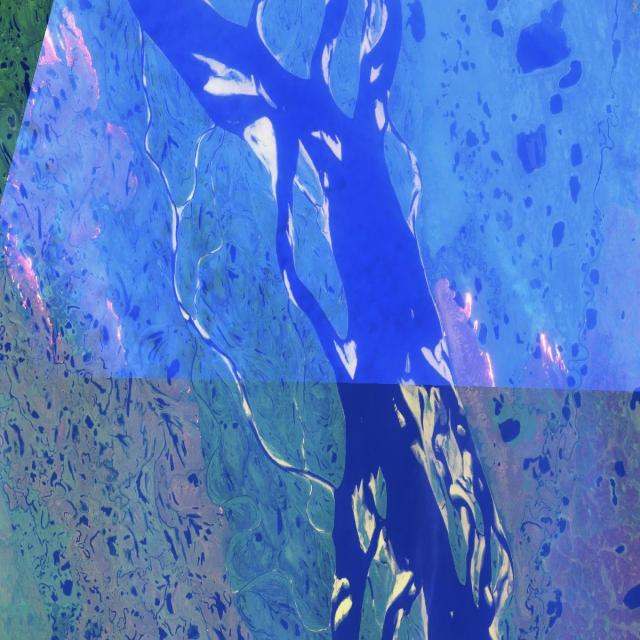fire: (0, 230, 55, 349)
